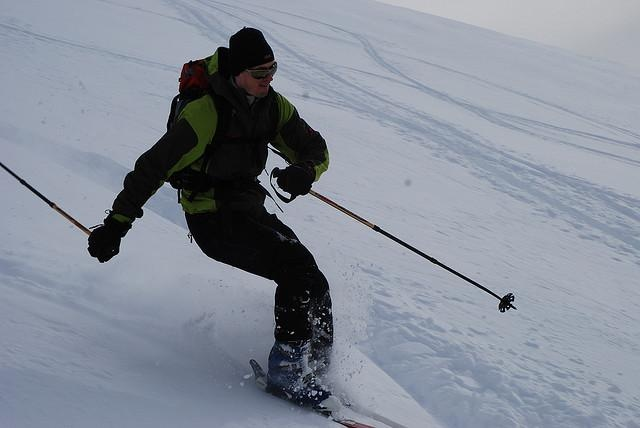person: (85, 26, 349, 414)
